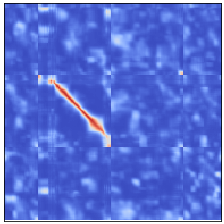action_path: (35, 75, 110, 149)
